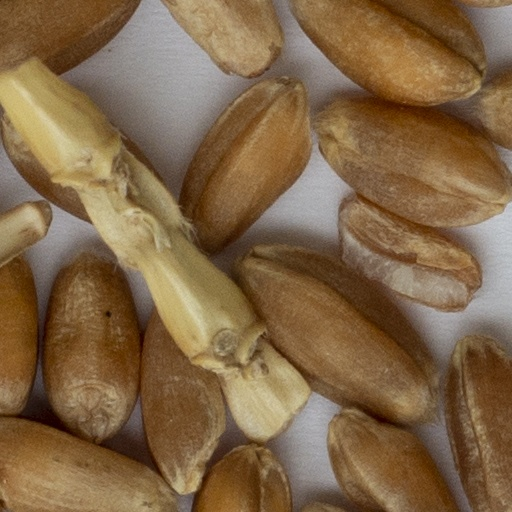Peel-poly: (0, 52, 314, 444), (0, 197, 55, 271)
Wheat-grain-damaged-poly: (337, 191, 482, 312)
Wheat-grain-poly: (182, 71, 316, 244), (154, 0, 283, 81)
